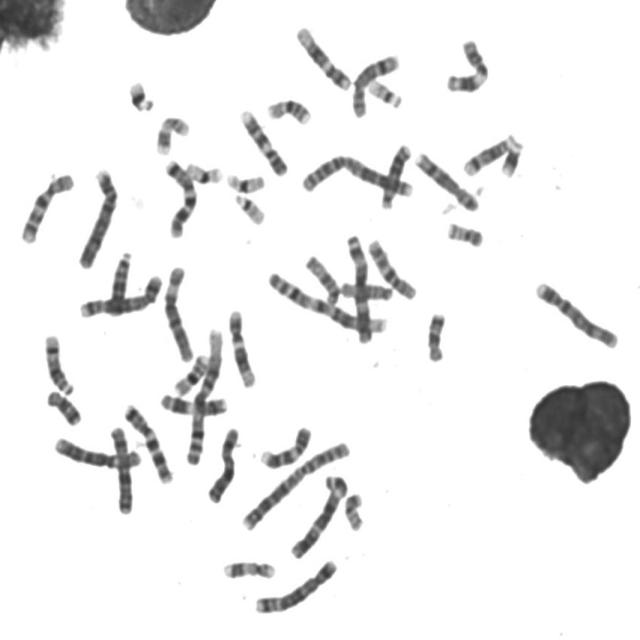A1: (264, 266, 388, 338), (182, 322, 226, 466)
A2: (238, 435, 352, 533), (296, 146, 416, 200)
A3: (287, 468, 351, 560), (342, 230, 373, 345)
B4: (532, 276, 620, 350), (73, 163, 120, 270)
B5: (250, 554, 340, 616), (75, 268, 165, 320)
C10: (16, 167, 76, 246), (364, 234, 418, 302)
C11: (441, 33, 491, 94), (156, 387, 229, 418)
C12: (292, 19, 354, 92), (224, 305, 258, 389)
C6: (159, 261, 197, 363), (50, 432, 143, 471)
C7: (119, 399, 174, 485), (160, 154, 198, 240)
C8: (411, 146, 482, 213), (348, 48, 402, 119)
C9: (236, 104, 289, 178), (256, 420, 314, 470)
D13: (376, 138, 414, 210), (106, 246, 134, 316)
D14: (459, 128, 520, 178), (39, 328, 76, 397)
D15: (301, 250, 342, 307), (336, 276, 396, 302)
E16: (169, 348, 211, 397), (263, 93, 313, 126)
E17: (151, 110, 192, 156), (219, 555, 277, 581)
E18: (41, 384, 83, 427), (423, 307, 448, 364)
F19: (182, 156, 225, 186), (222, 167, 267, 195)
F20: (442, 215, 486, 249), (341, 488, 366, 532)
G21: (496, 134, 525, 178), (124, 75, 156, 114)
G22: (230, 188, 268, 226), (364, 74, 404, 109)
X: (202, 421, 242, 505), (105, 421, 136, 516)
